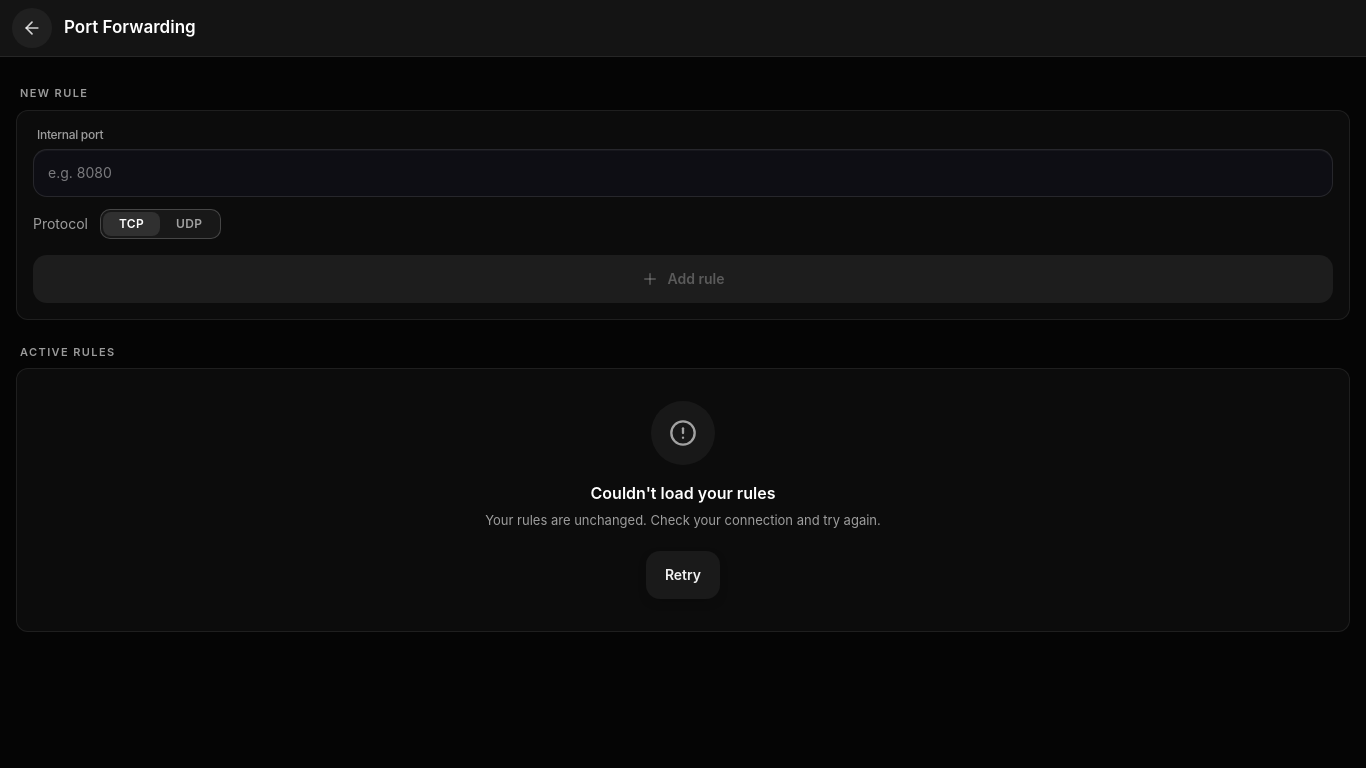
Scenario: Port Forwarding (W2-030) › a failed load shows an error with Retry, and never "No port forwarding rules yet"
Expected: the text "Couldn't load your rules" is shown, [591,481,776,505]
Expected: the text "No port forwarding rules yet" is not shown
Step 1. Click the button "Retry" → (683, 574), box [646,550,720,598]
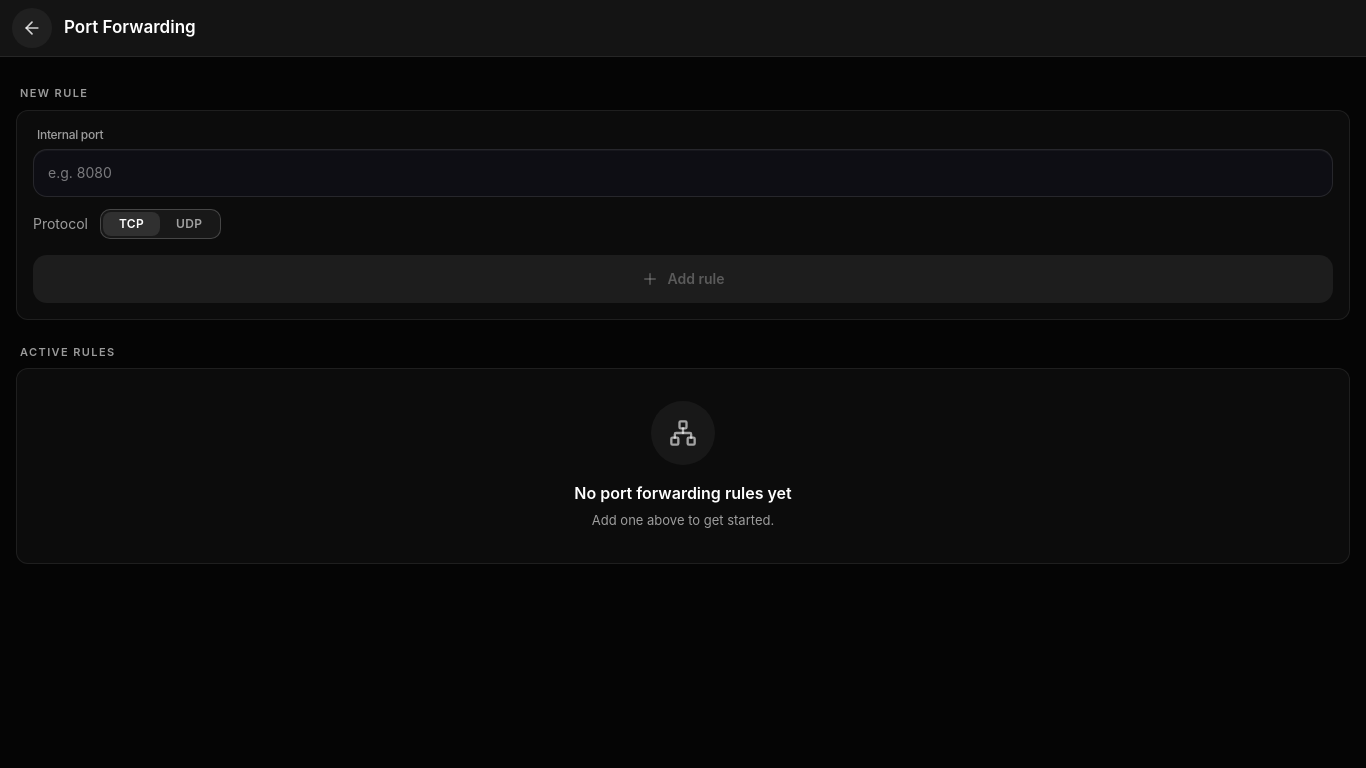
Expected: the text "No port forwarding rules yet" is shown, [574,481,792,505]
